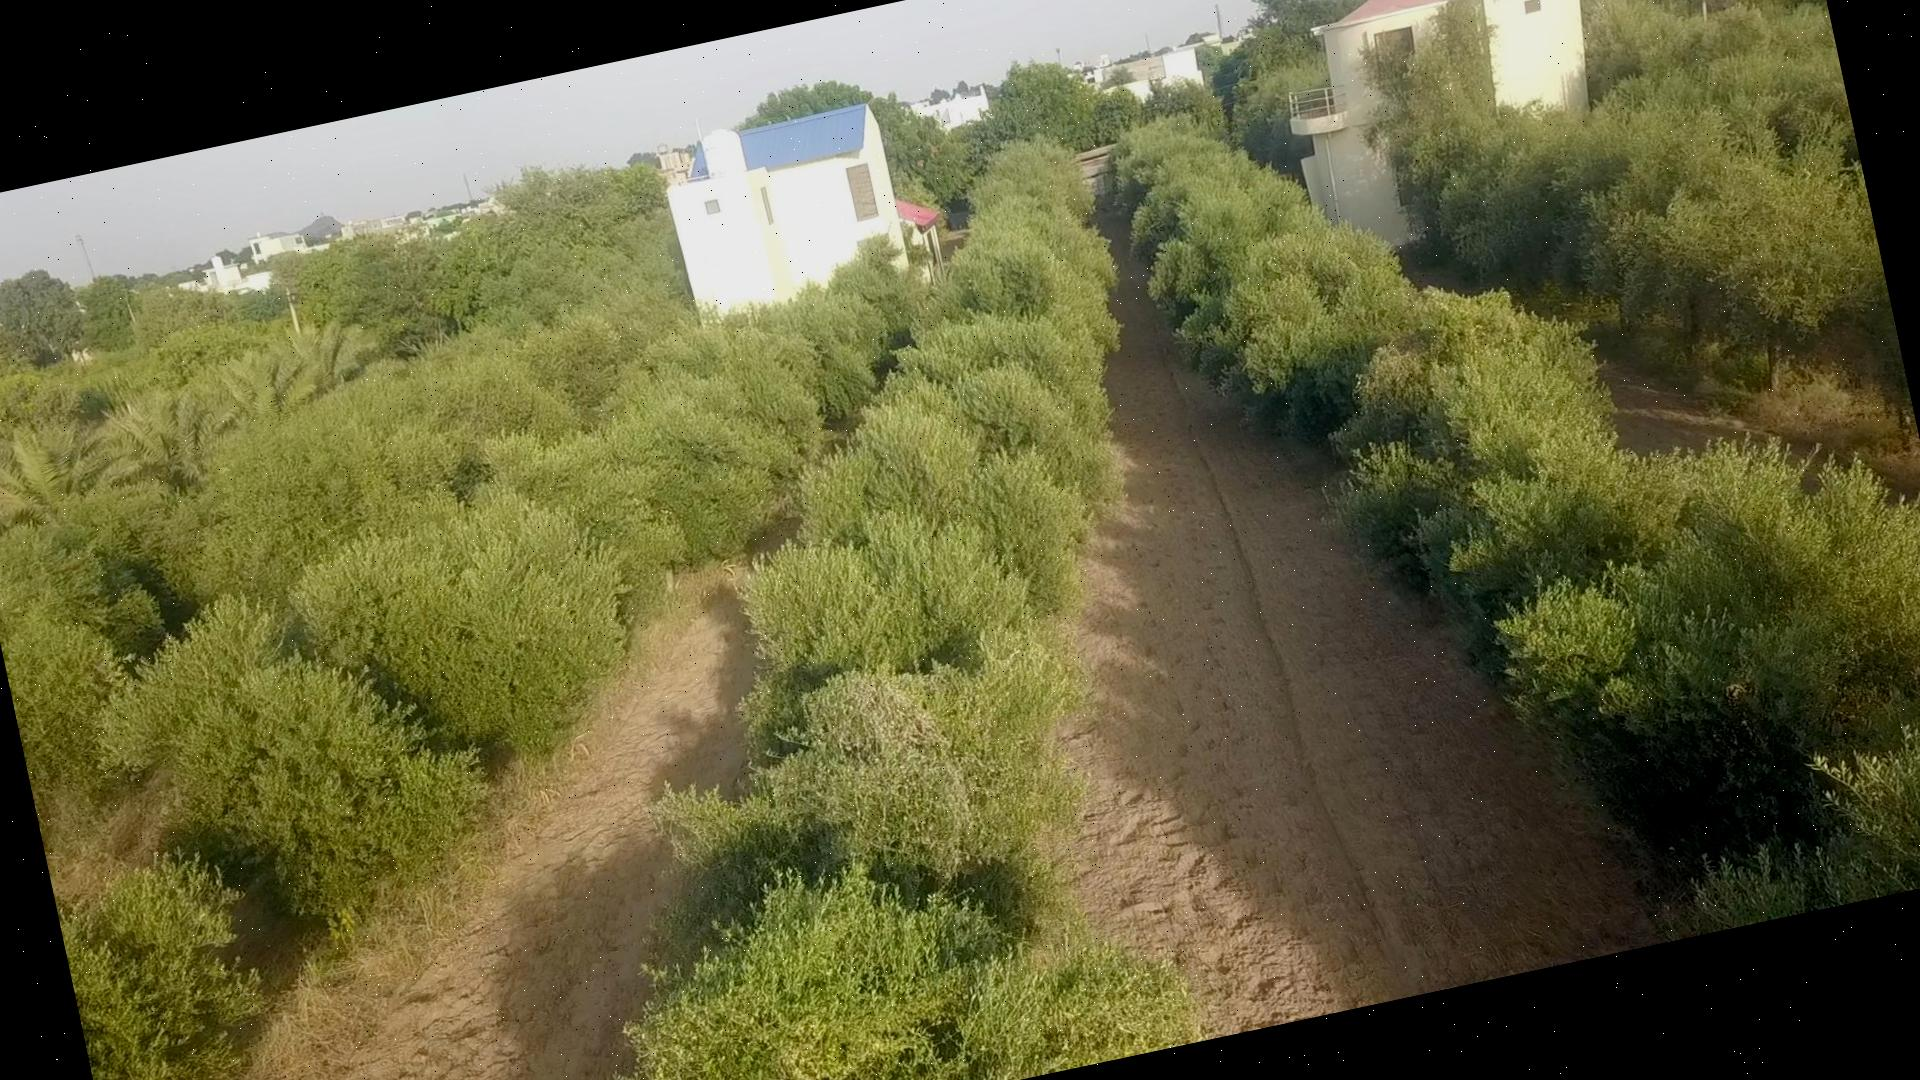canopy: (46, 276, 916, 1080), (1118, 120, 1920, 923), (615, 141, 1203, 1080), (1366, 3, 1904, 372)
road: (1062, 222, 1654, 1033), (253, 572, 752, 1080), (1601, 363, 1920, 493)
